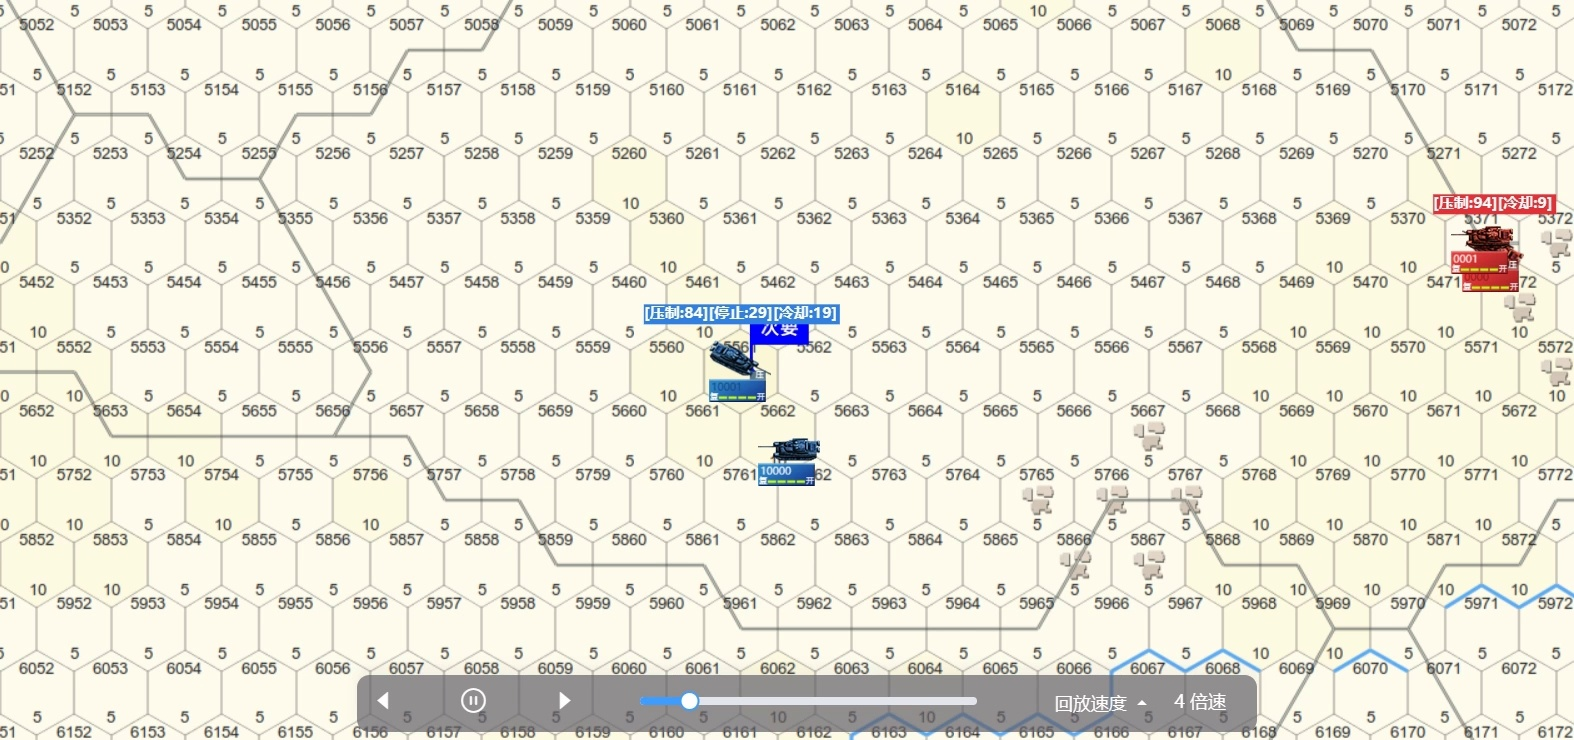blue_tank: (711, 340, 769, 409), (765, 443, 824, 482)
red_tank: (1453, 225, 1518, 296)
